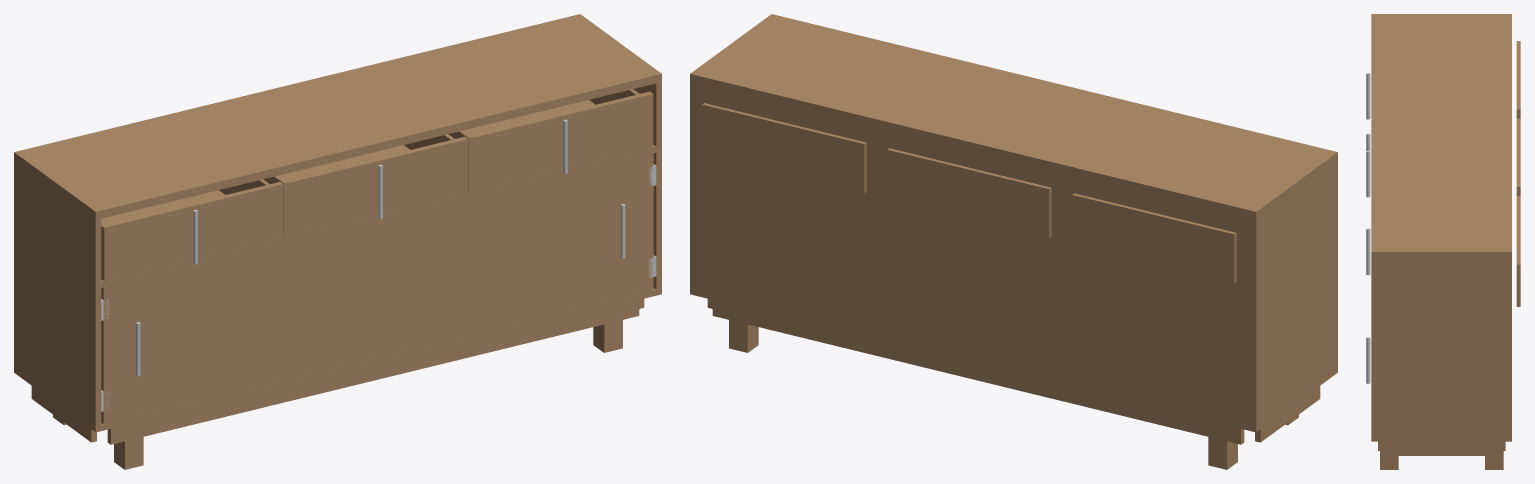
The model's file is Oakley_sideboard.glb.
The picture shows the model from 3 angles, left to right: view 1: azimuth 30°, elevation 25°; view 2: azimuth 150°, elevation 25°; view 3: azimuth 270°, elevation 25°; orthographic projection. The views are drawn at different scales.
Visible parts, largest first — view 1: top, door_1, door_2, carcass.side_1, drawer.front_1, drawer.front_3, drawer.front_2, rail.long_1, shelf.drawer, carcass.bottom, carcass.side_2, rail.short_1 (+3 smaller); view 2: carcass.back, top, carcass.side_1, rail.long_2, drawer.back_1, drawer.back_2, drawer.back_3, carcass.bottom, carcass.side_2, rail.short_1, divider.centre, leg_3 (+1 smaller); view 3: top, carcass.side_2, rail.short_2, drawer.back_3, leg_2, drawer.back_2, leg_4, drawer.back_1, handle.drawer_2, handle.drawer_1, handle.drawer_3, handle.door_2.
Boxes of the visible parts, left/top/right/bottom form: top: left=14, top=14, right=661, bottom=219; door_1: left=101, top=221, right=375, bottom=424; door_2: left=381, top=153, right=653, bottom=356; carcass.side_1: left=14, top=160, right=101, bottom=432; drawer.front_1: left=101, top=182, right=283, bottom=281; drawer.front_3: left=472, top=91, right=653, bottom=190; drawer.front_2: left=287, top=136, right=468, bottom=235; rail.long_1: left=107, top=300, right=639, bottom=444; shelf.drawer: left=101, top=100, right=656, bottom=287; carcass.bottom: left=101, top=288, right=656, bottom=430; carcass.side_2: left=633, top=82, right=661, bottom=295; rail.short_1: left=31, top=386, right=96, bottom=442; carcass.back: left=695, top=83, right=1250, bottom=430; top: left=690, top=14, right=1337, bottom=219; carcass.side_1: left=1250, top=160, right=1337, bottom=432; rail.long_2: left=712, top=300, right=1244, bottom=444; drawer.back_1: left=1072, top=193, right=1236, bottom=283; drawer.back_2: left=887, top=148, right=1051, bottom=238; drawer.back_3: left=702, top=103, right=866, bottom=193; carcass.bottom: left=695, top=290, right=1250, bottom=430; carcass.side_2: left=690, top=82, right=695, bottom=295; rail.short_1: left=1255, top=386, right=1320, bottom=442; divider.centre: left=970, top=219, right=975, bottom=358; leg_3: left=1208, top=437, right=1237, bottom=469; top: left=1371, top=14, right=1511, bottom=258; carcass.side_2: left=1371, top=259, right=1511, bottom=441; rail.short_2: left=1390, top=441, right=1493, bottom=455; drawer.back_3: left=1516, top=196, right=1520, bottom=306; leg_2: left=1380, top=441, right=1398, bottom=469; drawer.back_2: left=1516, top=118, right=1520, bottom=196; leg_4: left=1485, top=441, right=1503, bottom=469; drawer.back_1: left=1516, top=41, right=1520, bottom=118; handle.drawer_2: left=1366, top=150, right=1370, bottom=197; handle.drawer_1: left=1366, top=73, right=1370, bottom=119; handle.drawer_3: left=1366, top=228, right=1370, bottom=275; handle.door_2: left=1366, top=337, right=1370, bottom=383.
Size of the model in its own units: 1.8 by 0.82 by 0.493.
